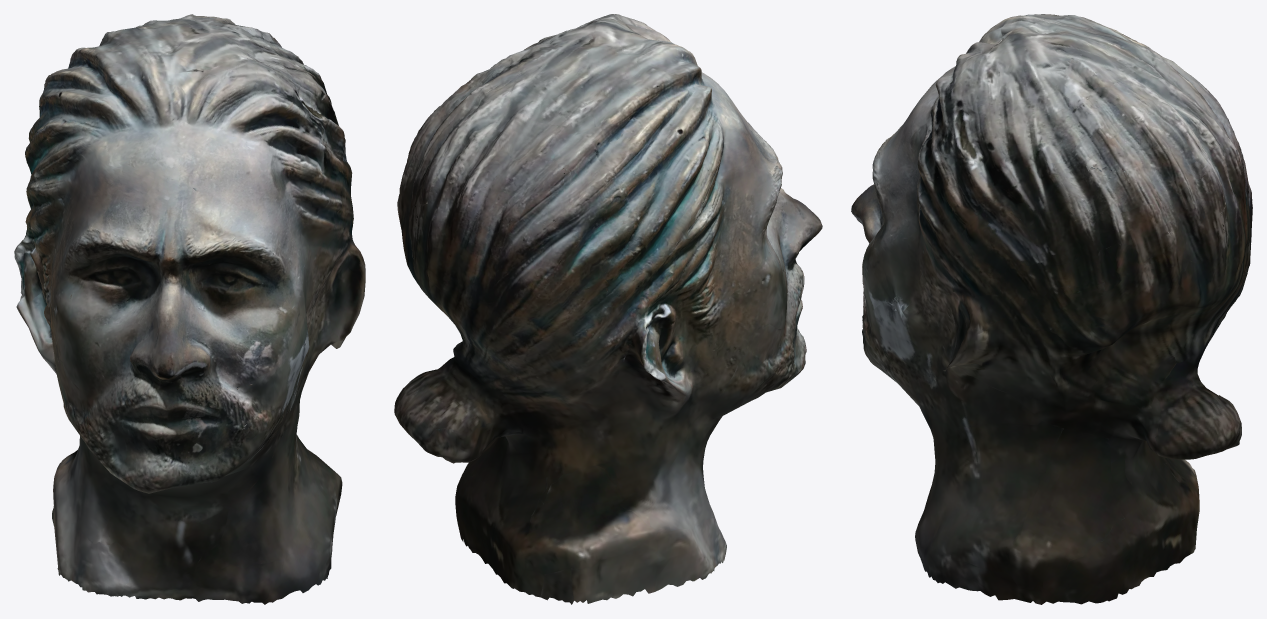
File: busto.glb
The picture shows the model from 3 angles, left to right: view 1: azimuth 30°, elevation 25°; view 2: azimuth 150°, elevation 25°; view 3: azimuth 270°, elevation 25°; orthographic projection. The views are drawn at different scales.
Visible parts, largest first — view 1: 3DModel; view 2: 3DModel; view 3: 3DModel.
Part boxes in pixels (left/top/right/bottom): 3DModel: left=14, top=14, right=365, bottom=604; 3DModel: left=394, top=14, right=822, bottom=604; 3DModel: left=851, top=14, right=1252, bottom=604.
Bounding box in the file's own units: 0.7248 × 1.14 × 0.8083.
1 material, 1 textured.
